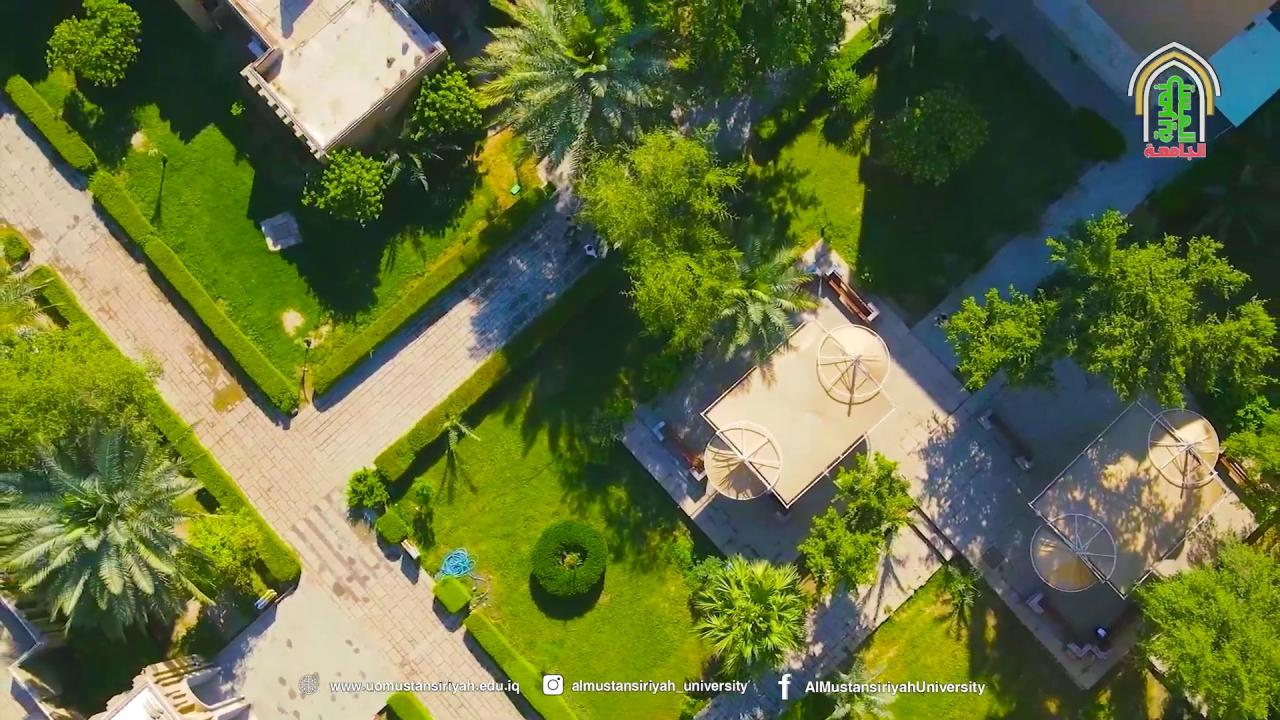tree: (465, 1, 880, 169), (567, 122, 822, 364), (2, 415, 221, 641), (1042, 206, 1278, 415), (464, 1, 659, 174), (299, 53, 485, 229), (1128, 528, 1278, 718), (0, 322, 163, 472), (647, 0, 863, 101), (796, 448, 916, 607), (684, 551, 810, 682), (939, 282, 1066, 395), (391, 53, 488, 192), (42, 0, 142, 126), (876, 85, 991, 186), (184, 504, 273, 604), (795, 505, 884, 604), (299, 144, 401, 229), (830, 448, 916, 541), (815, 322, 890, 416), (529, 519, 608, 598), (282, 302, 336, 404), (0, 254, 67, 334), (1219, 394, 1279, 480), (936, 565, 982, 641), (435, 400, 481, 464), (588, 392, 635, 448), (343, 465, 390, 520)
